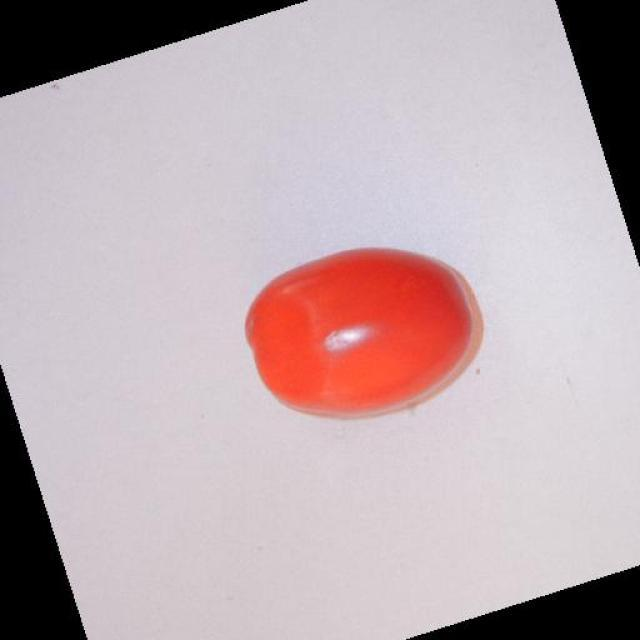Fresh Tomato: (218, 225, 500, 466)
